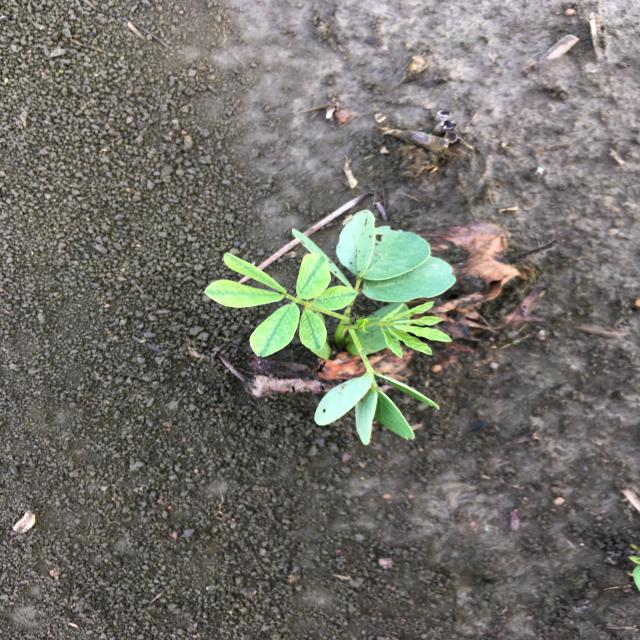Sicklepod: (203, 208, 459, 448)
